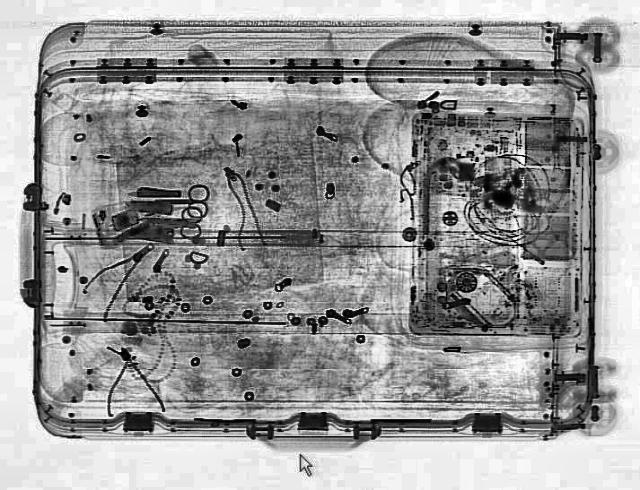Scissors: (131, 184, 211, 218), (136, 208, 202, 238)
